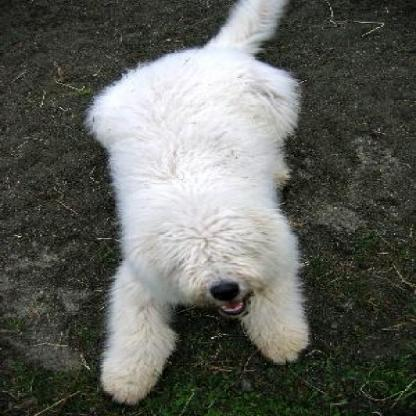komondor: (84, 0, 310, 405)
